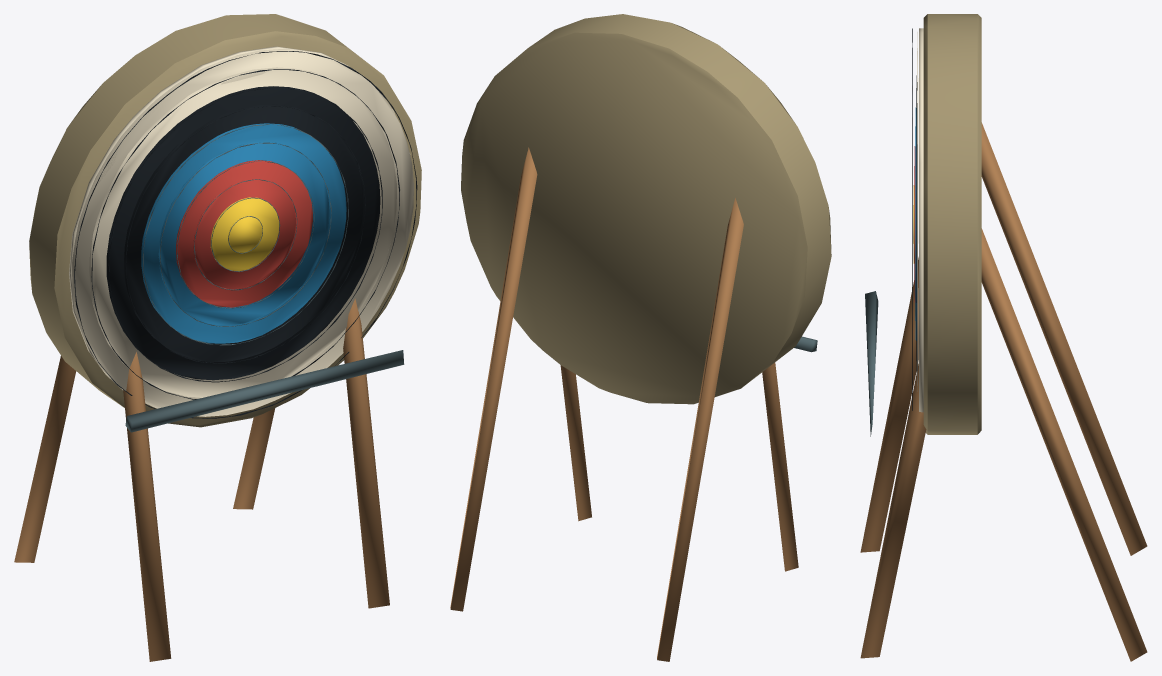
Rendered from club-archery-target.low.glb.
3 views of the same model, side by side, from view 1: azimuth 30°, elevation 25°; view 2: azimuth 150°, elevation 25°; view 3: azimuth 270°, elevation 25° (orthographic). The views are drawn at different scales.
Visible parts, largest first — view 1: geometry:body:3, geometry:body:4, geometry:body:2, geometry:body:5, geometry:body:0, geometry:body:6, geometry:body:1, geometry:body:7; view 2: geometry:body:2, geometry:body:0; view 3: geometry:body:0, geometry:body:2, geometry:body:3, geometry:body:1, geometry:body:4, geometry:body:5.
Part boxes in pixels (x1,y1,x2,y2): geometry:body:3: (69, 46, 413, 416); geometry:body:4: (74, 51, 417, 418); geometry:body:2: (29, 14, 421, 427); geometry:body:5: (141, 123, 346, 343); geometry:body:0: (14, 298, 389, 661); geometry:body:6: (176, 160, 312, 307); geometry:body:1: (125, 124, 404, 432); geometry:body:7: (210, 197, 279, 271); geometry:body:2: (461, 14, 831, 404); geometry:body:0: (450, 147, 798, 661); geometry:body:0: (860, 122, 1147, 661); geometry:body:2: (923, 14, 981, 434); geometry:body:3: (917, 28, 923, 412); geometry:body:1: (865, 291, 878, 436); geometry:body:4: (912, 28, 917, 410); geometry:body:5: (915, 107, 916, 340).
Size of the model in its own units: 1.31 by 1.96 by 0.894.
